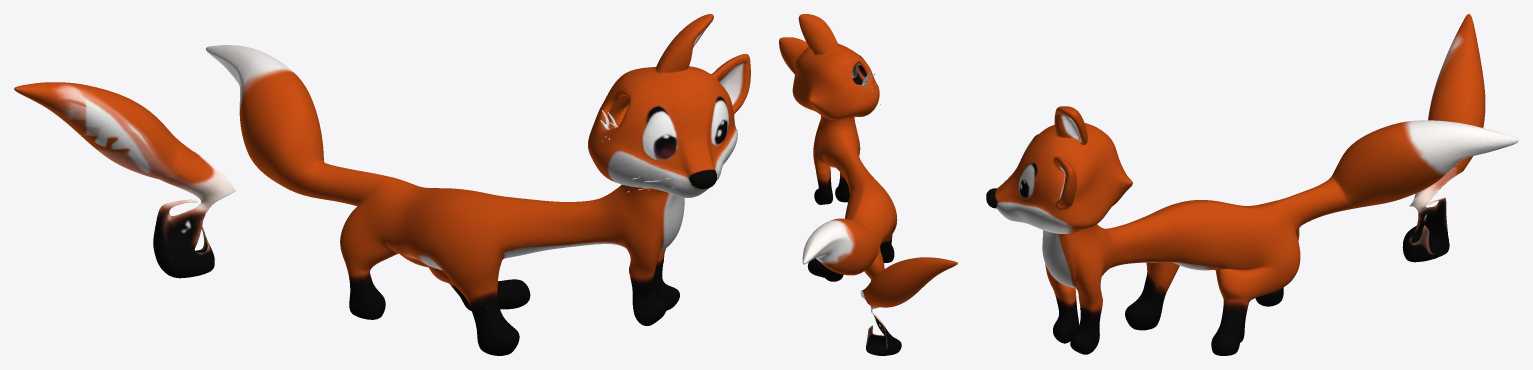
File: microsoft__TRELLIS.2.glb
3 views of the same model, side by side, from view 1: azimuth 30°, elevation 25°; view 2: azimuth 150°, elevation 25°; view 3: azimuth 270°, elevation 25° (orthographic). The views are drawn at different scales.
Parts seen in each view (by area): view 1: world; view 2: world; view 3: world.
Part boxes in pixels (bbox=[...]): world: bbox=[14, 14, 750, 355]; world: bbox=[779, 14, 957, 355]; world: bbox=[986, 14, 1518, 355].
Size of the model in its own units: 0.9908 by 0.6058 by 1.
1 material, 1 textured.
